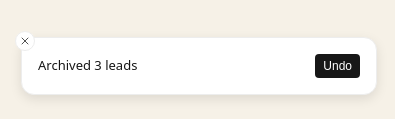
Surfaces and states › toast with undo
Click the button "Undo": point(338, 66) x1=315 y1=54 x2=360 y2=78
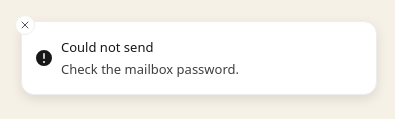
Now the text "Could not send" is shown, box x1=61 y1=38 x2=153 y2=56
